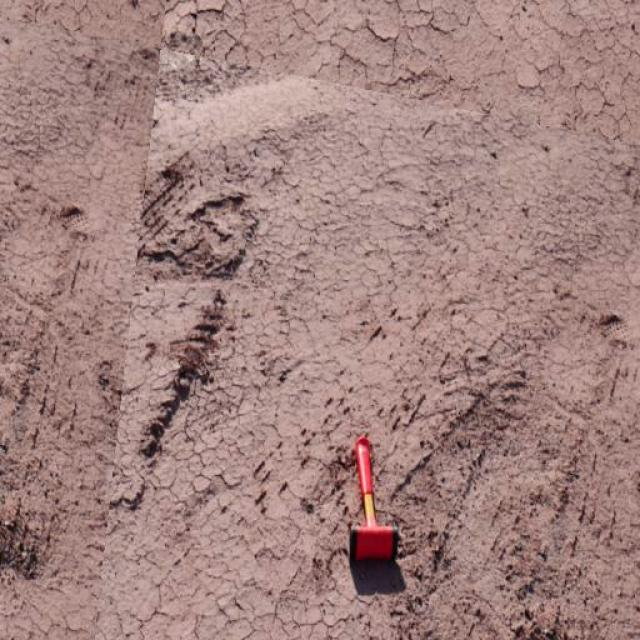mallet: (349, 433, 400, 562)
